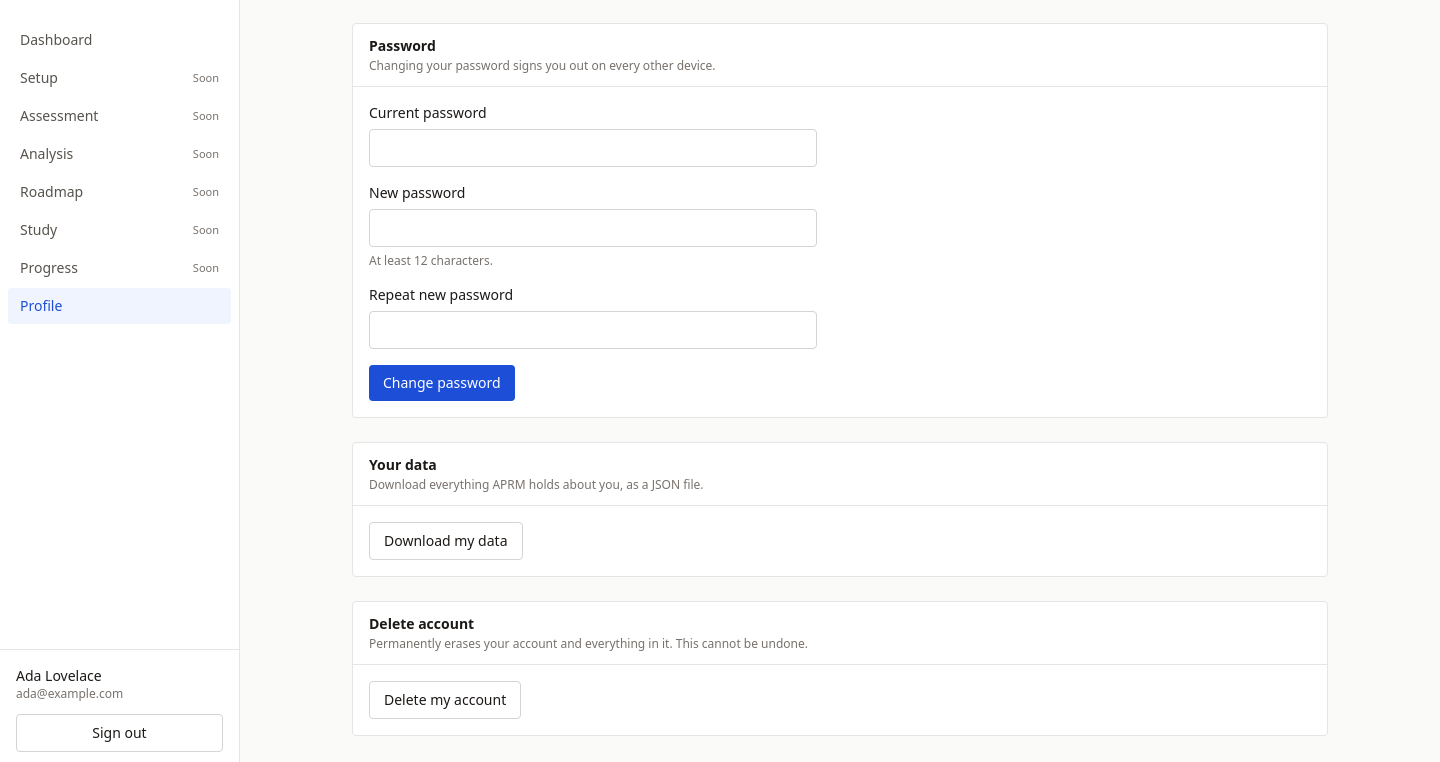
Test: ProfilePage › deletion › asks for the password, deletes, and signs the user out
(page scrolled)
Step 1. Click the button "Delete my account" → [445, 700], box top-left (369, 681), bottom-right (521, 719)
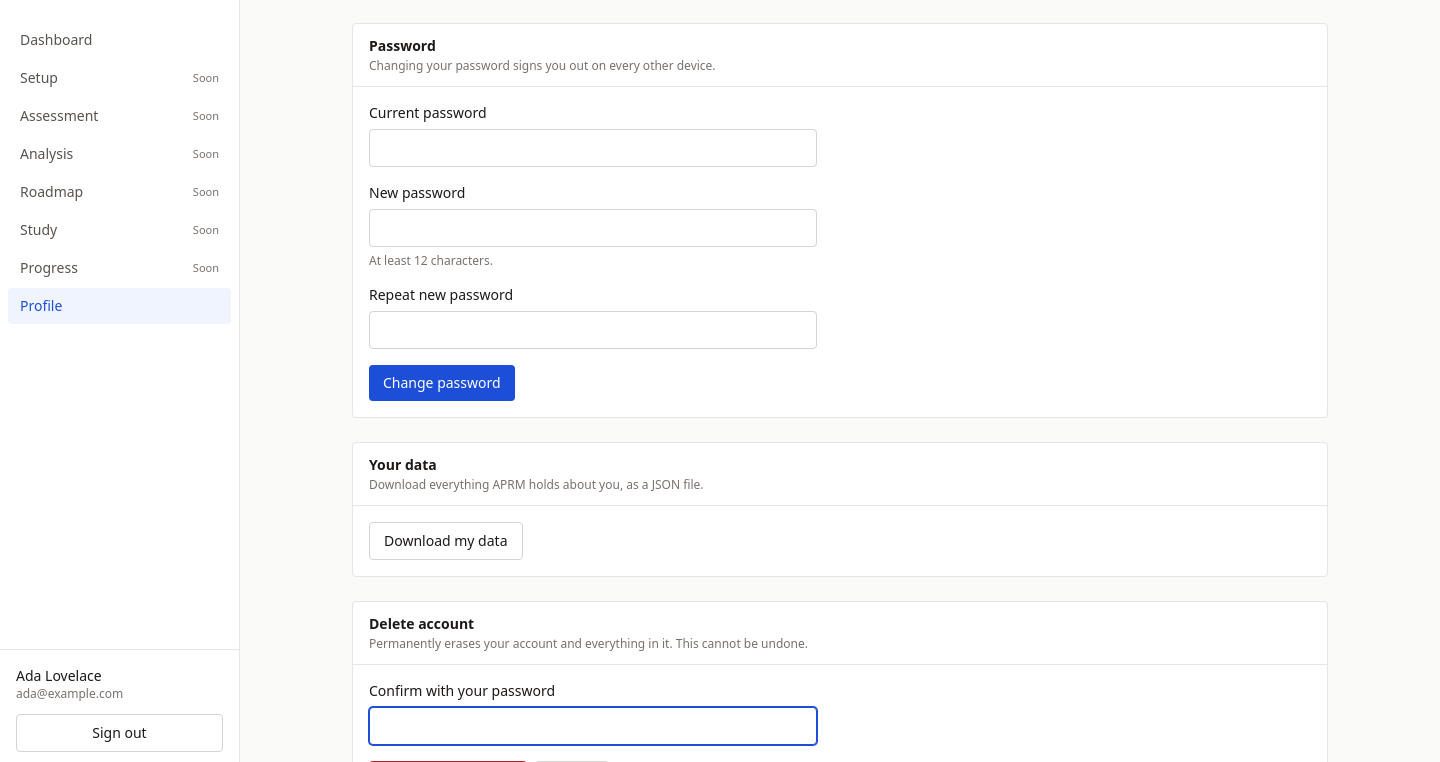
Step 2. Type "correct-horse-battery" into the password field labelled "Confirm with your password" → [593, 726], box top-left (369, 707), bottom-right (817, 745)
(page scrolled)
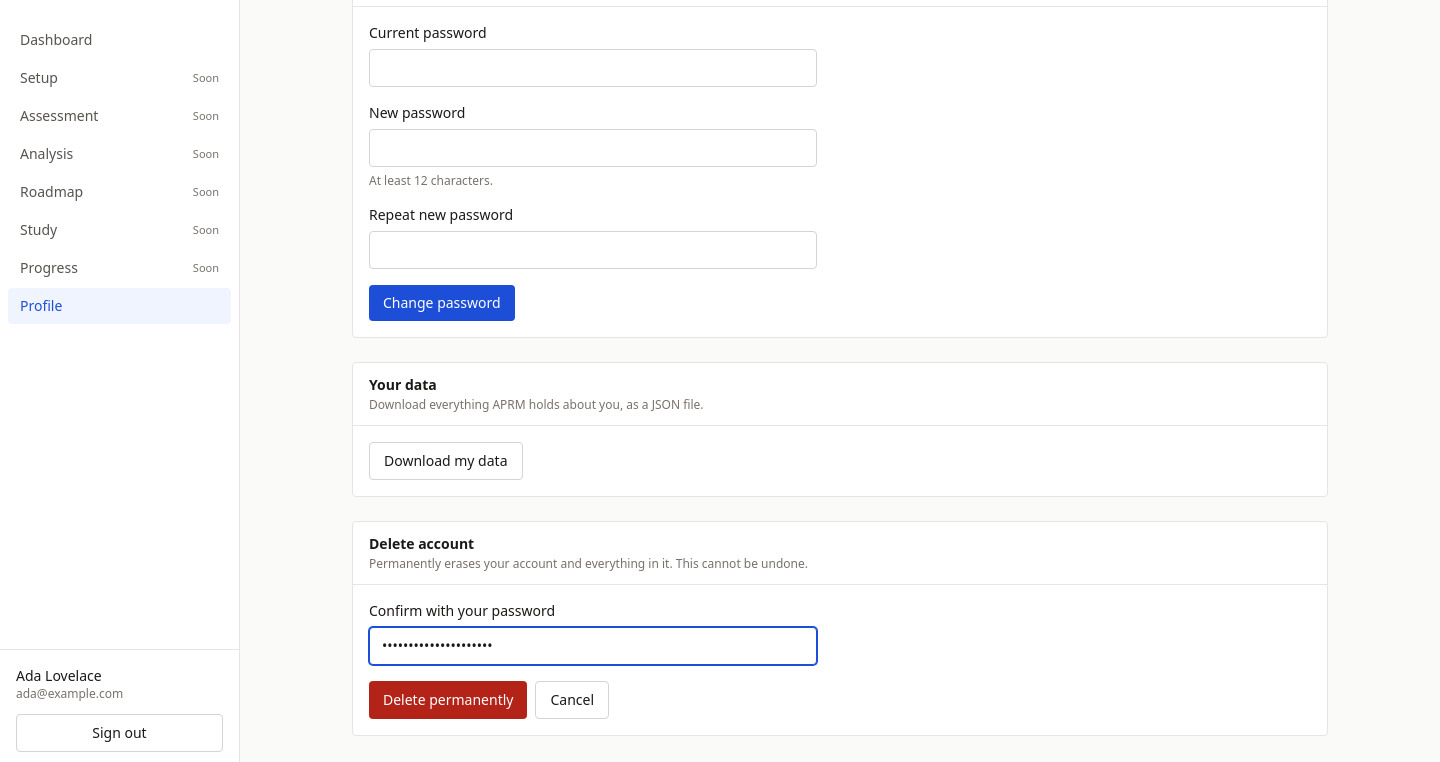
Step 3. Click the button "Delete permanently" → [448, 700], box top-left (369, 681), bottom-right (528, 719)
(page scrolled)
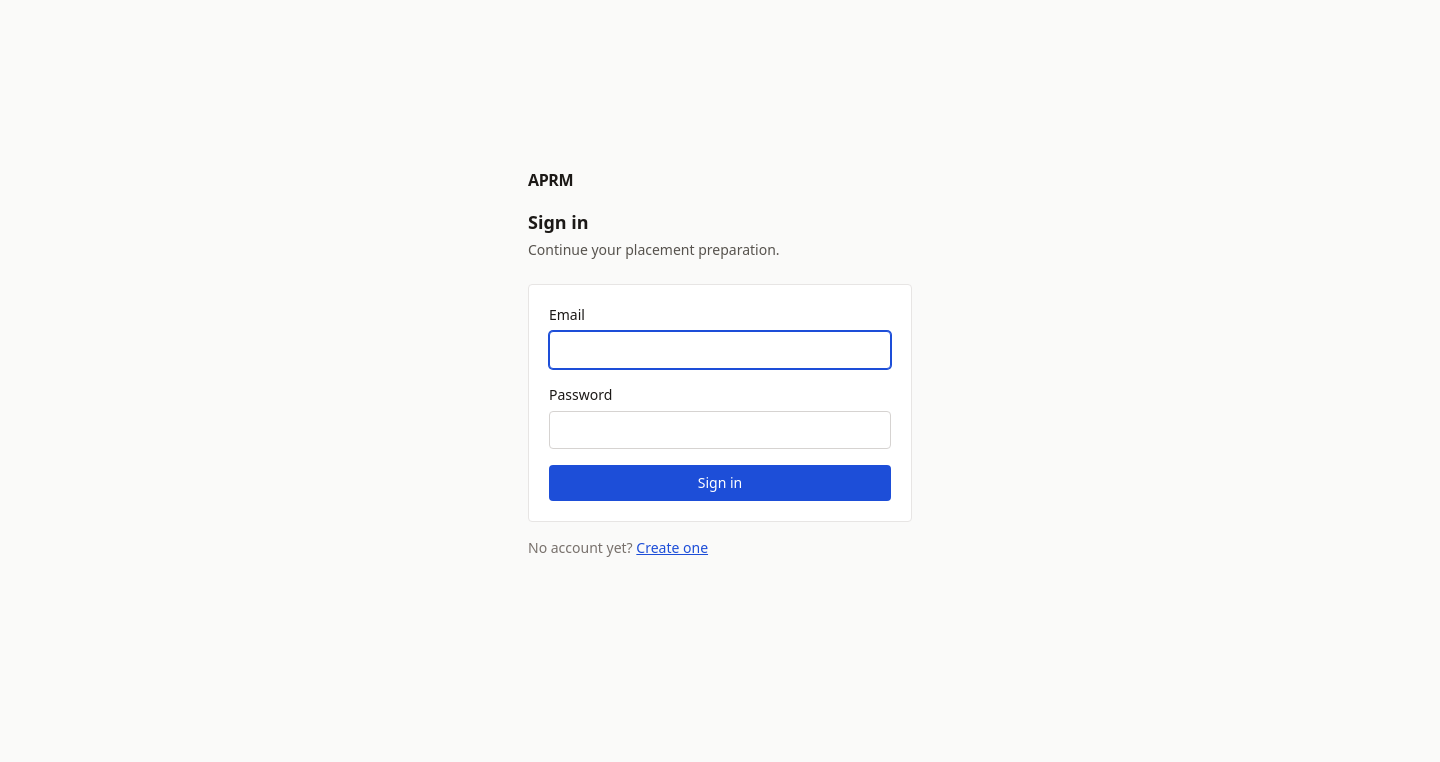
Expected: the heading "Sign in" is shown, top-left (528, 210), bottom-right (589, 234)
